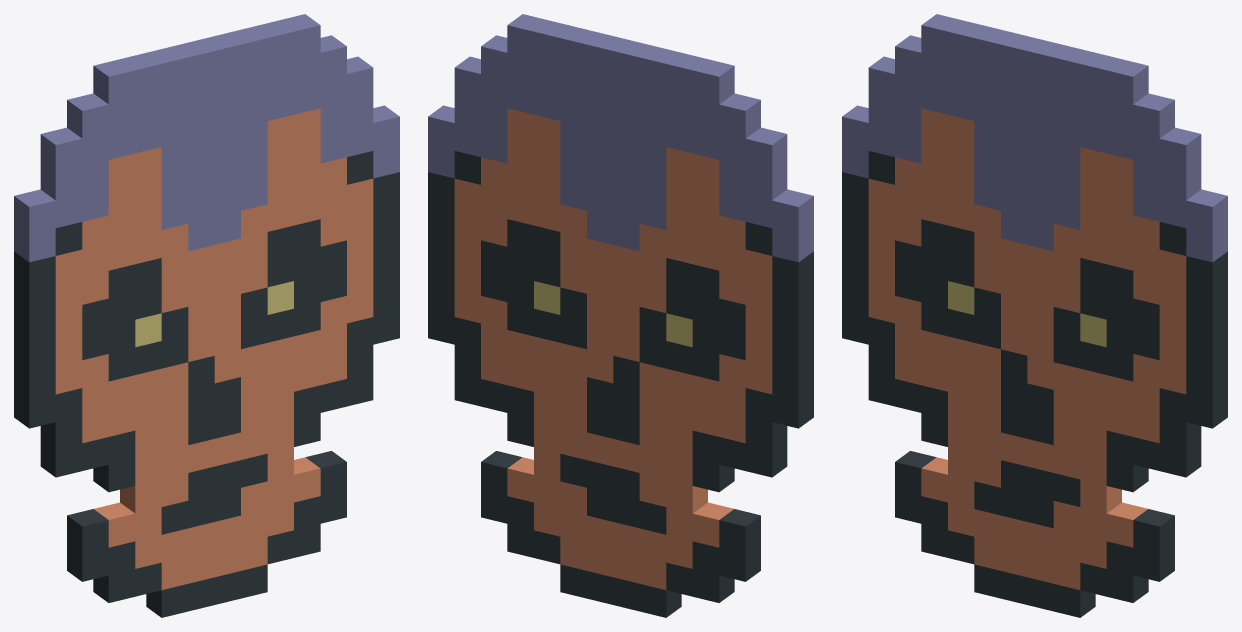
The picture shows the model from 3 angles, left to right: view 1: azimuth 30°, elevation 25°; view 2: azimuth 150°, elevation 25°; view 3: azimuth 330°, elevation 25°; orthographic projection.
Size of the model in its own units: 0.7 by 1 by 0.05.
